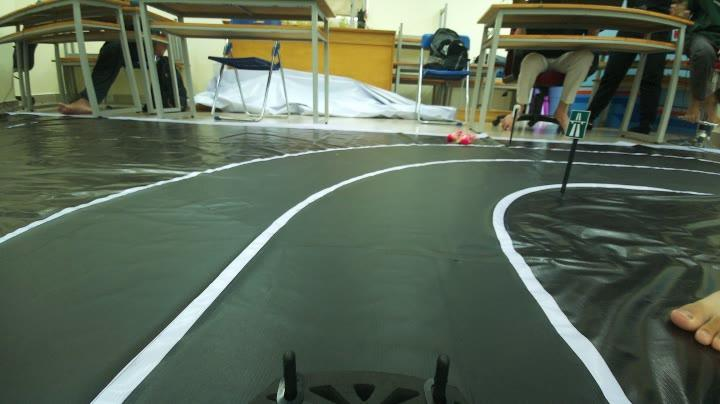highway_entry: (566, 106, 591, 146)
